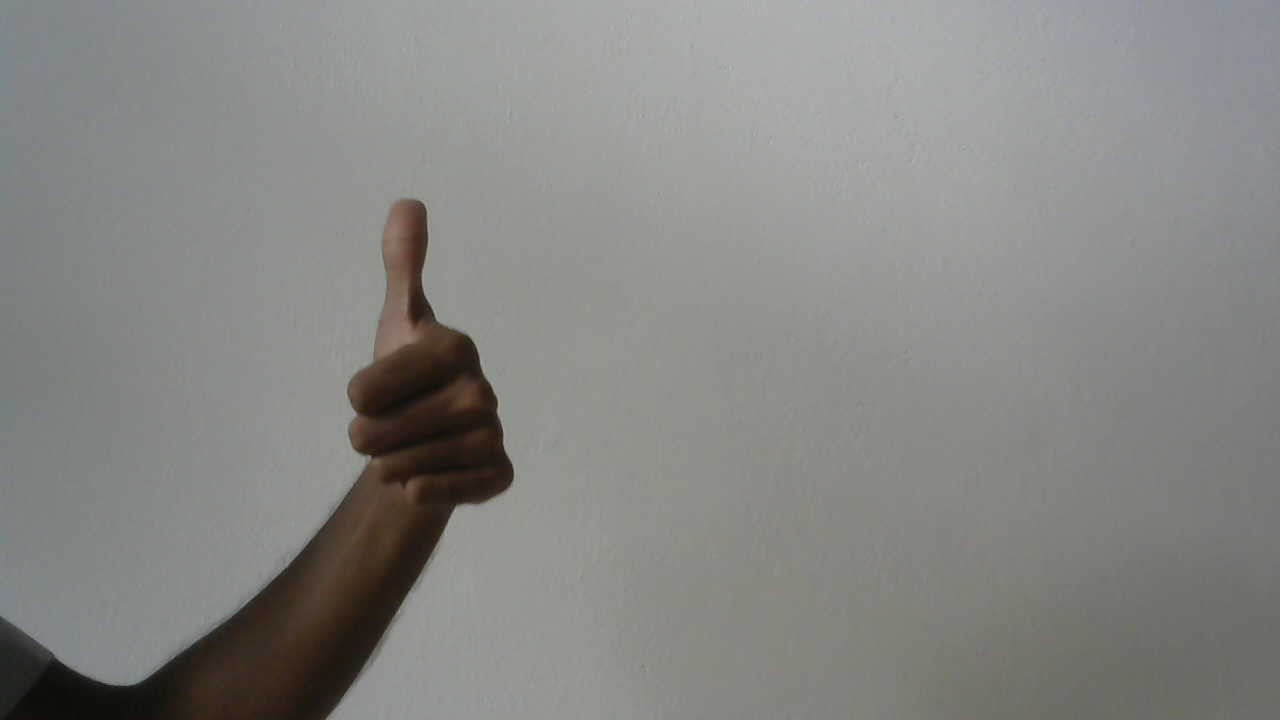thumbsup: (334, 183, 539, 536)
